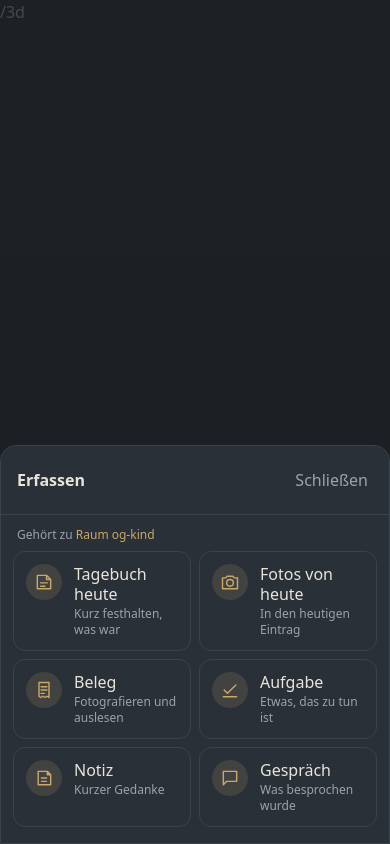
Test: capture sheet › takes the room open in 3D along when the address has none
The width and height of the screenshot is (390, 844).
Click the button "Fotos von heute In den heutigen Eintrag": [288, 601] box [199, 551, 377, 651]
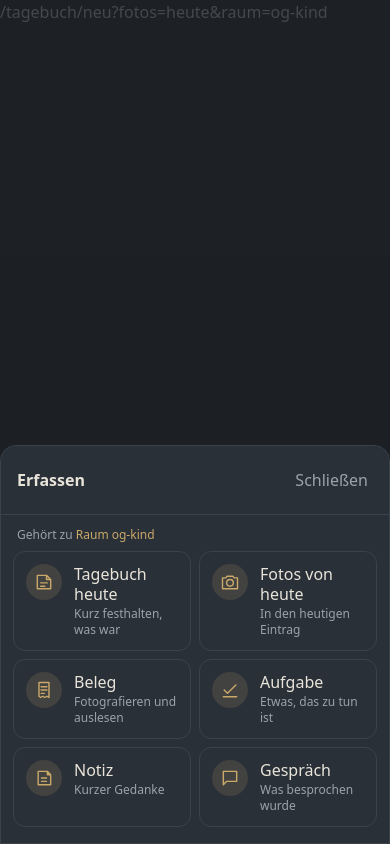
Now the text "/tagebuch/neu?fotos=heute&raum=og-kind" is shown, box [0, 1, 328, 23]
